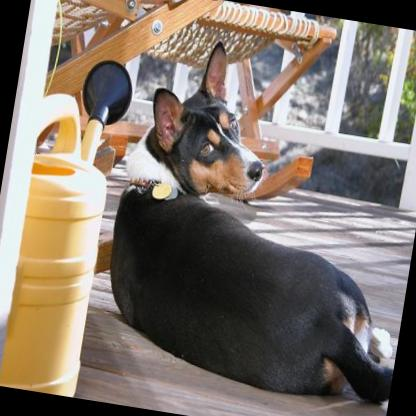basenji: (90, 26, 416, 410)
